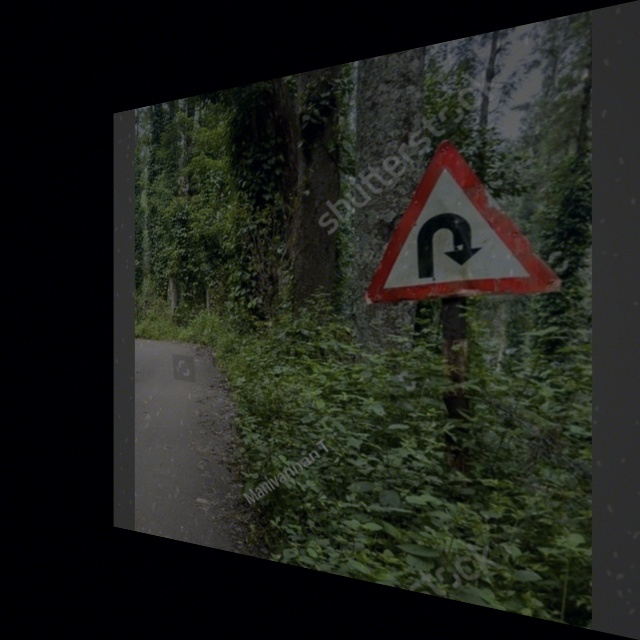Right_Hair_Pin_Bend: (369, 125, 558, 298)
